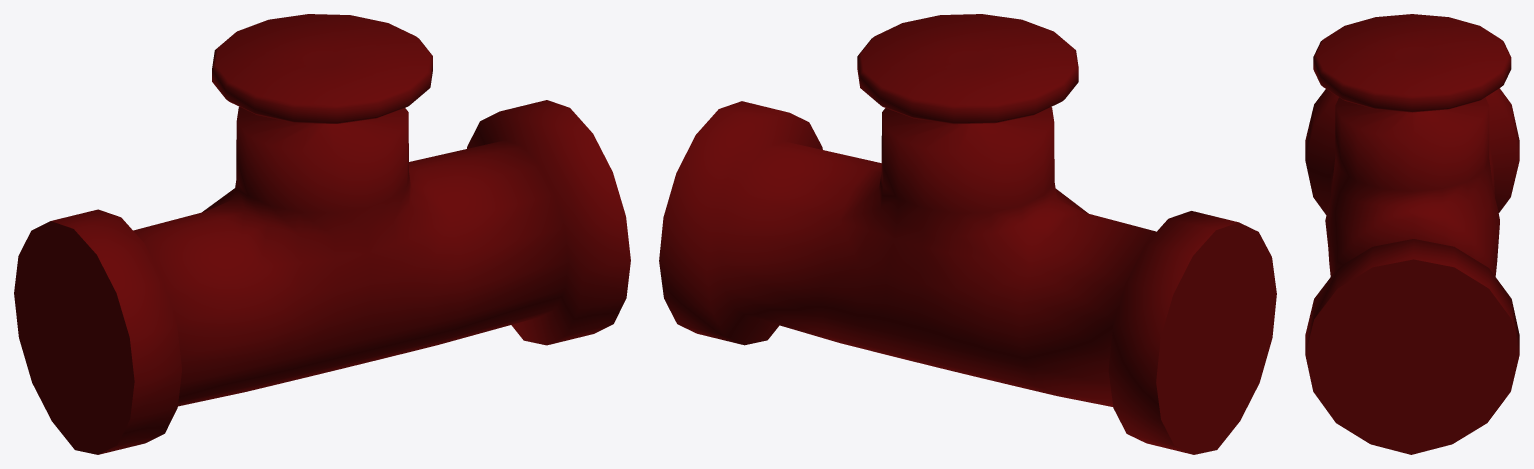
File: _ipe05_low.fbx
3 views of the same model, side by side, from view 1: azimuth 30°, elevation 25°; view 2: azimuth 150°, elevation 25°; view 3: azimuth 270°, elevation 25° (orthographic). The views are drawn at different scales.
Visible parts, largest first — view 1: Pipe05_low; view 2: Pipe05_low; view 3: Pipe05_low.
Boxes of the visible parts, left/top/right/bottom form: Pipe05_low: left=14, top=14, right=630, bottom=454; Pipe05_low: left=659, top=14, right=1276, bottom=454; Pipe05_low: left=1305, top=14, right=1519, bottom=454.
Size of the model in its own units: 14.98 by 9.52 by 6.3.
